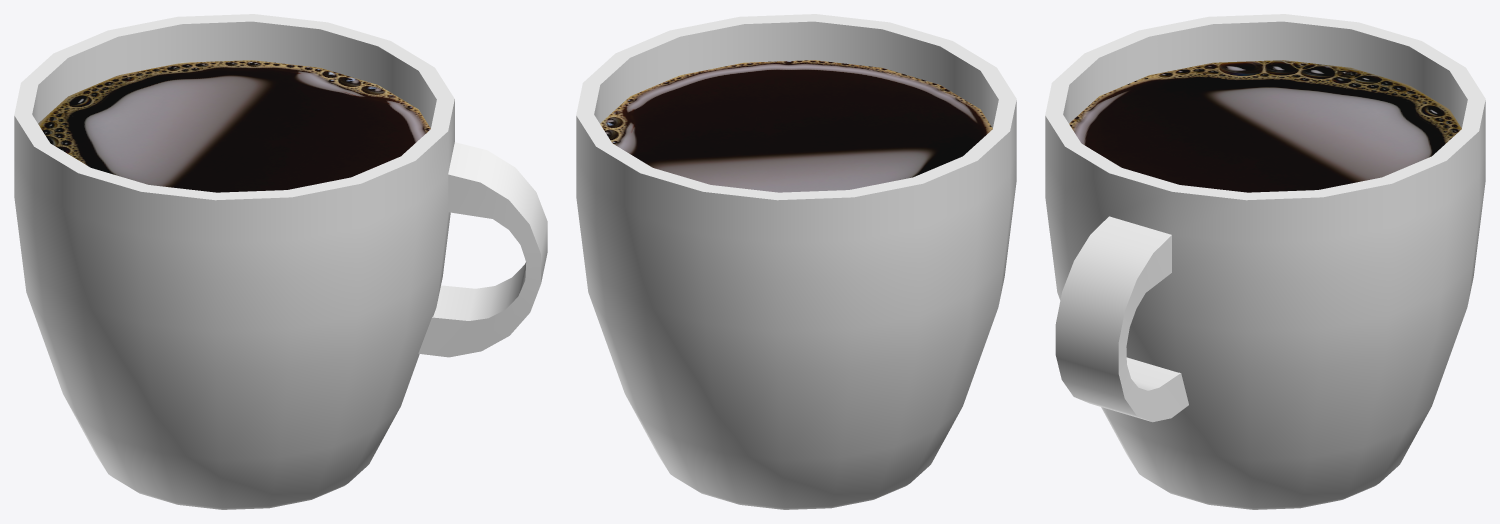
The model's file is Coffee 1.FBX.
The picture shows the model from 3 angles, left to right: view 1: azimuth 30°, elevation 25°; view 2: azimuth 150°, elevation 25°; view 3: azimuth 270°, elevation 25°; orthographic projection.
Parts seen in each view (by area): view 1: Coffee 1; view 2: Coffee 1; view 3: Coffee 1.
Boxes of the visible parts, x1,y1,x2,y2 form: Coffee 1: (14, 14, 547, 509); Coffee 1: (576, 14, 1016, 509); Coffee 1: (1045, 14, 1485, 509).
Bounding box in the file's own units: 12.07 × 9.28 × 10.7.
1 material, 1 textured.
